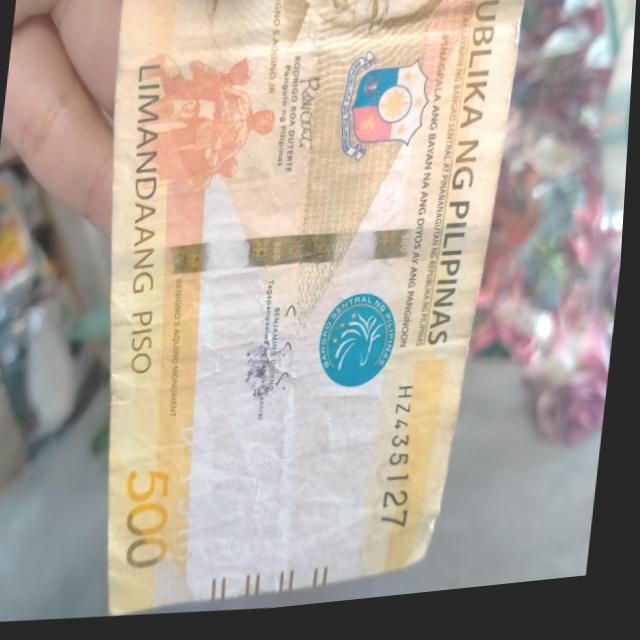security_thread: (116, 207, 502, 304)
see_through_mark: (164, 418, 223, 580)
serial_number: (374, 381, 444, 551)
